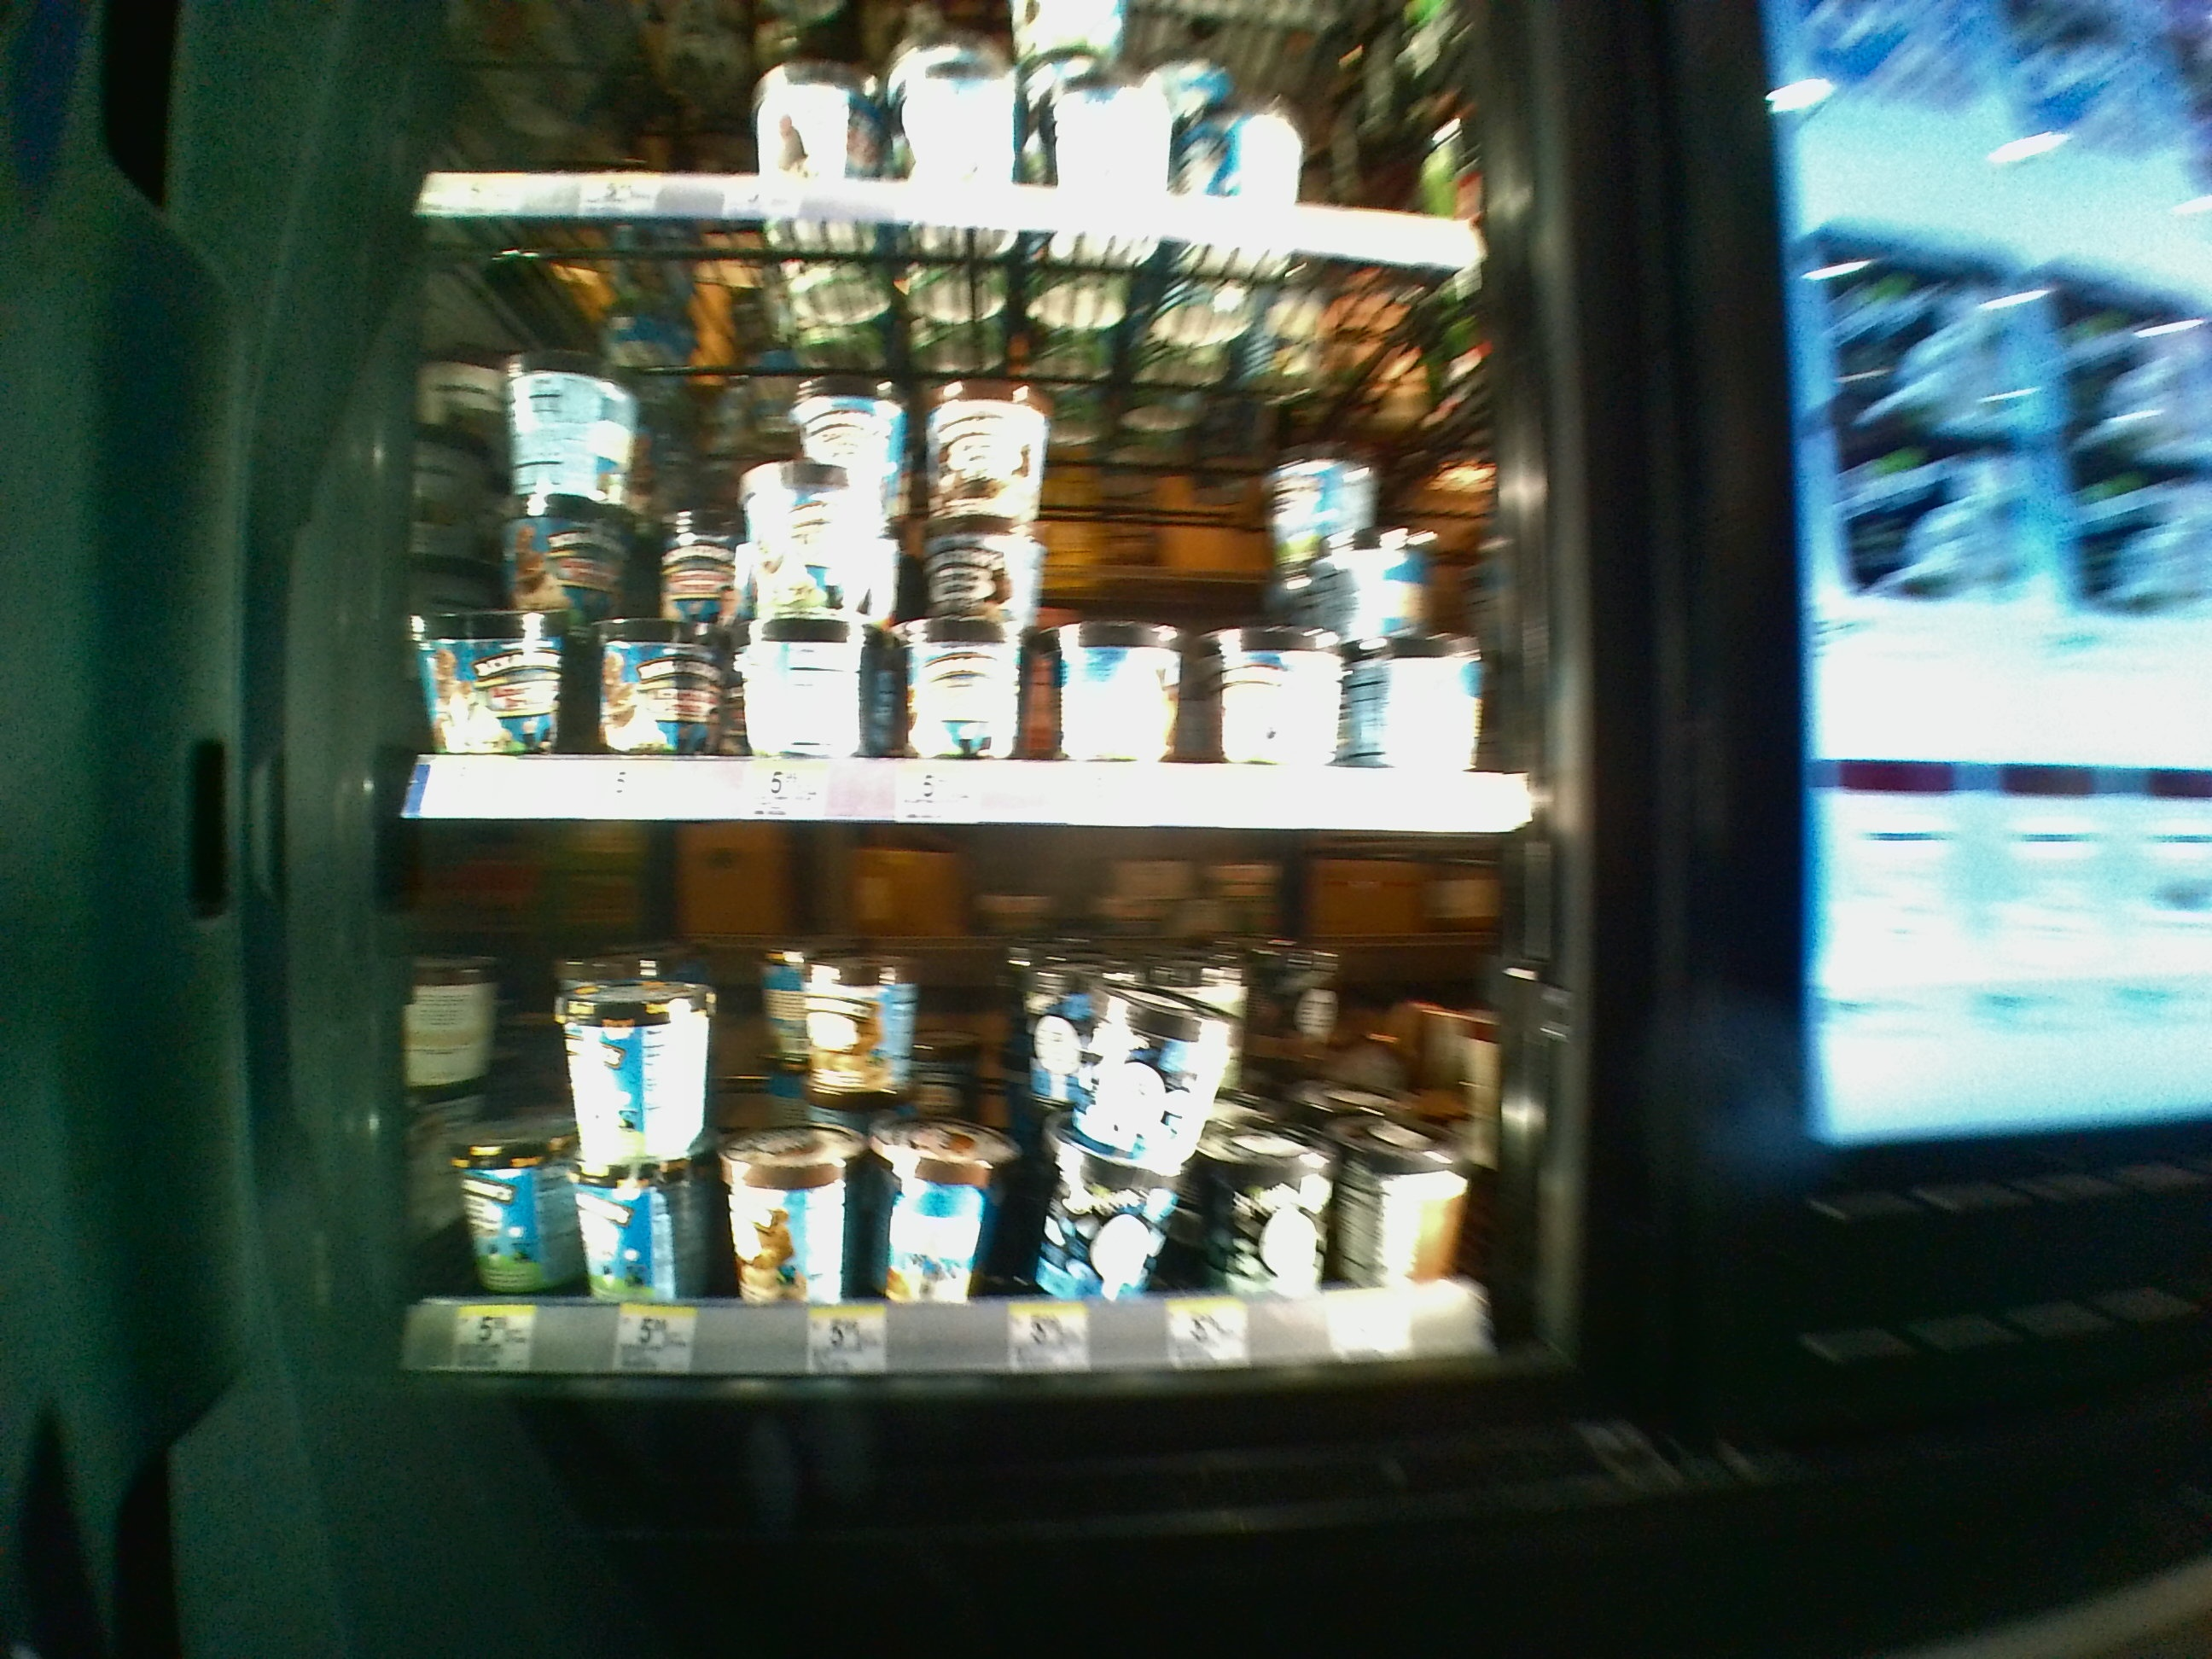shelf: (388, 216, 1538, 819), (387, 836, 1543, 1377)
